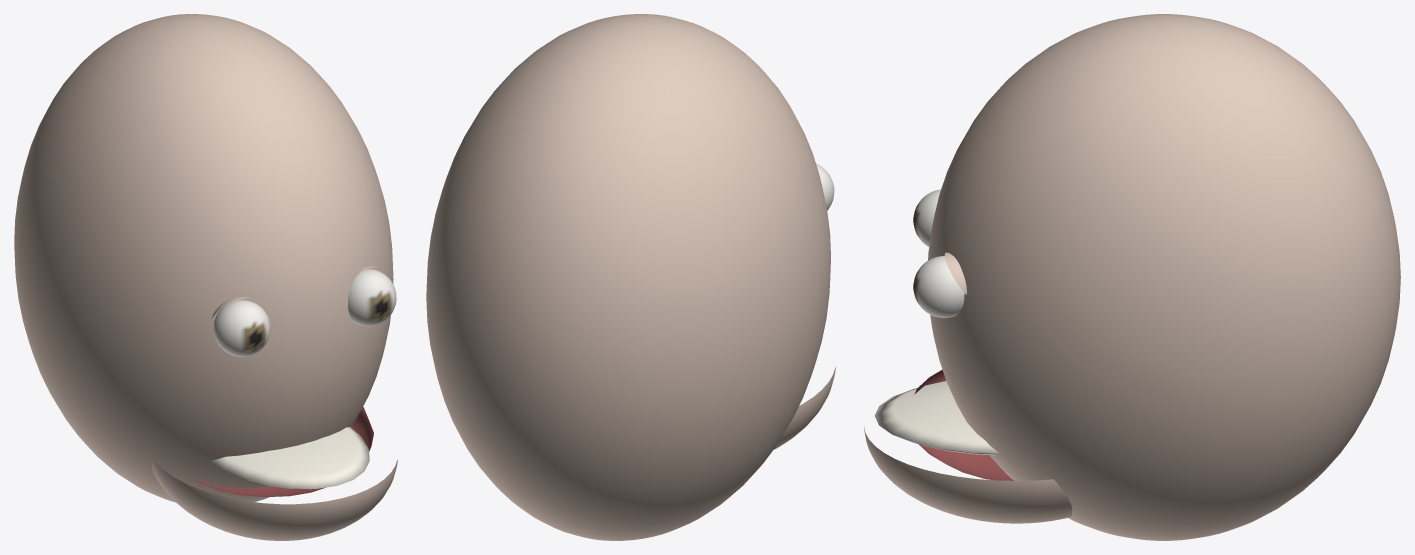
File: rig-fixture.glb
3 renders of one model, left to right at view 1: azimuth 30°, elevation 25°; view 2: azimuth 150°, elevation 25°; view 3: azimuth 270°, elevation 25°, orthographic. The views are drawn at different scales.
Parts seen in each view (by area): view 1: HeadMesh, JawMesh, TeethMesh, EyeMeshR, EyeMeshL, MouthMesh; view 2: HeadMesh, JawMesh; view 3: HeadMesh, JawMesh, TeethMesh, EyeMeshL, MouthMesh, EyeMeshR.
Boxes of the visible parts, x1,y1,x2,y2 form: HeadMesh: (14, 14, 393, 502); JawMesh: (152, 459, 397, 540); TeethMesh: (209, 426, 369, 489); EyeMeshR: (213, 300, 270, 356); EyeMeshL: (348, 269, 396, 326); MouthMesh: (190, 407, 373, 496); HeadMesh: (426, 14, 830, 540); JawMesh: (773, 367, 835, 449); HeadMesh: (928, 14, 1400, 540); JawMesh: (864, 427, 1072, 523); TeethMesh: (874, 381, 998, 455); EyeMeshL: (913, 256, 964, 317); MouthMesh: (914, 369, 1014, 480); EyeMeshR: (913, 189, 940, 246).
Bounding box in the file's own units: 0.148 × 0.21 × 0.204.
